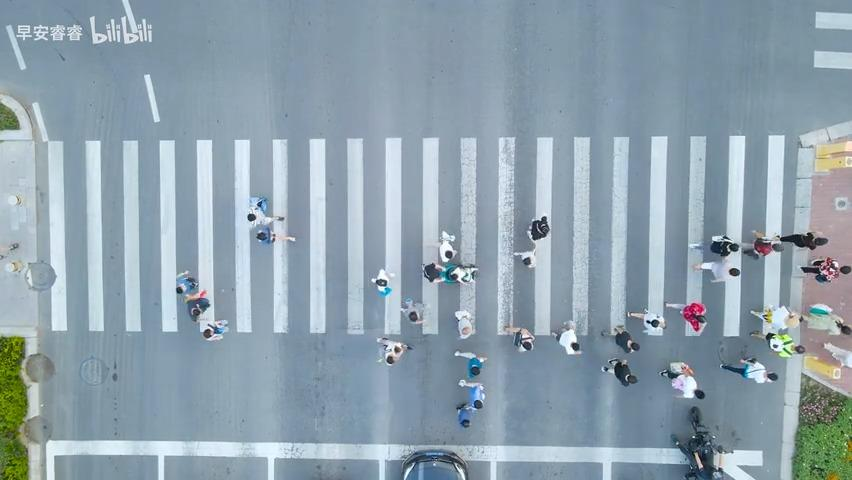Civilian: (691, 234, 740, 283), (512, 215, 550, 268), (658, 361, 705, 399), (799, 303, 851, 335), (719, 356, 778, 383), (749, 330, 805, 358), (799, 256, 851, 283), (664, 301, 707, 332), (421, 261, 478, 284), (742, 229, 783, 260), (247, 196, 284, 229), (550, 319, 582, 355), (600, 357, 638, 387), (175, 269, 207, 303), (376, 336, 413, 365), (775, 231, 827, 250), (453, 350, 487, 377), (627, 308, 666, 331), (183, 289, 210, 322), (502, 325, 535, 351), (457, 379, 485, 409), (613, 324, 640, 353), (822, 341, 851, 368), (370, 268, 395, 296), (255, 227, 296, 244), (400, 297, 425, 324), (436, 230, 457, 262), (658, 361, 692, 379), (201, 319, 228, 341), (454, 309, 473, 339), (527, 215, 549, 240)
